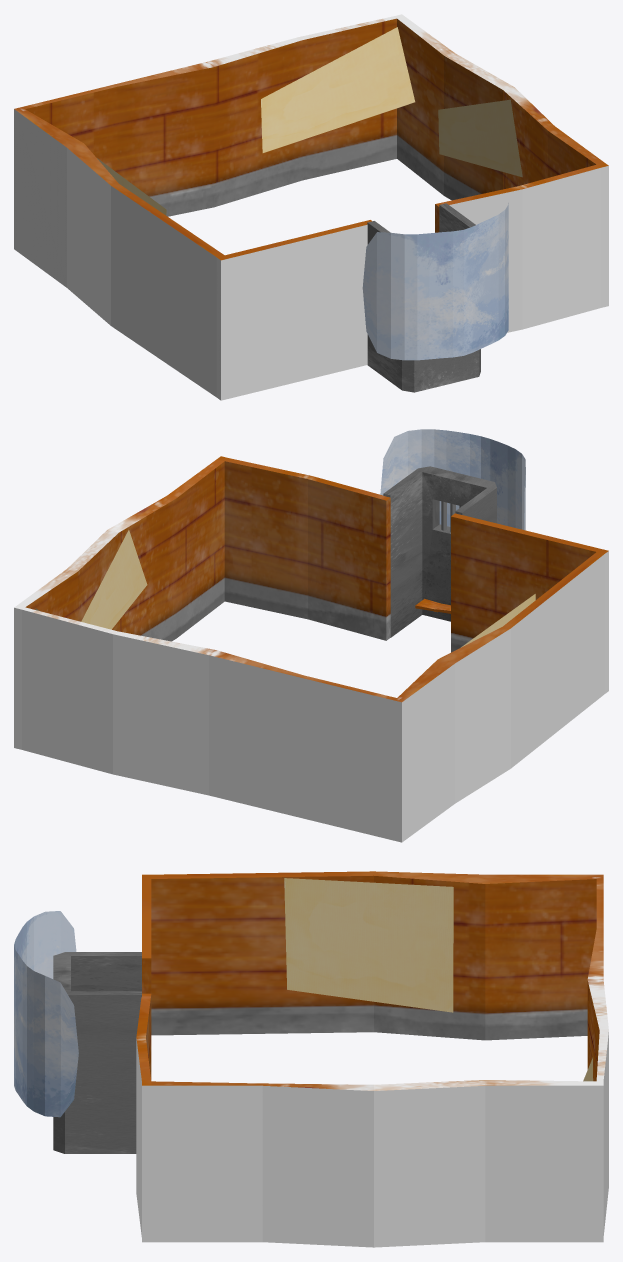
Rendered from Paredes.glb.
The picture shows the model from 3 angles, top to bottom: view 1: azimuth 30°, elevation 25°; view 2: azimuth 150°, elevation 25°; view 3: azimuth 270°, elevation 25°; orthographic projection. The views are drawn at different scales.
Parts seen in each view (by area): view 1: Paredes; view 2: Paredes; view 3: Paredes.
Part boxes in pixels (left/top/right/bottom): Paredes: left=14, top=14, right=608, bottom=400; Paredes: left=14, top=429, right=608, bottom=842; Paredes: left=14, top=871, right=608, bottom=1247.
Bounding box in the file's own units: 34.56 × 13.95 × 39.56.
11 materials, 7 textured.
